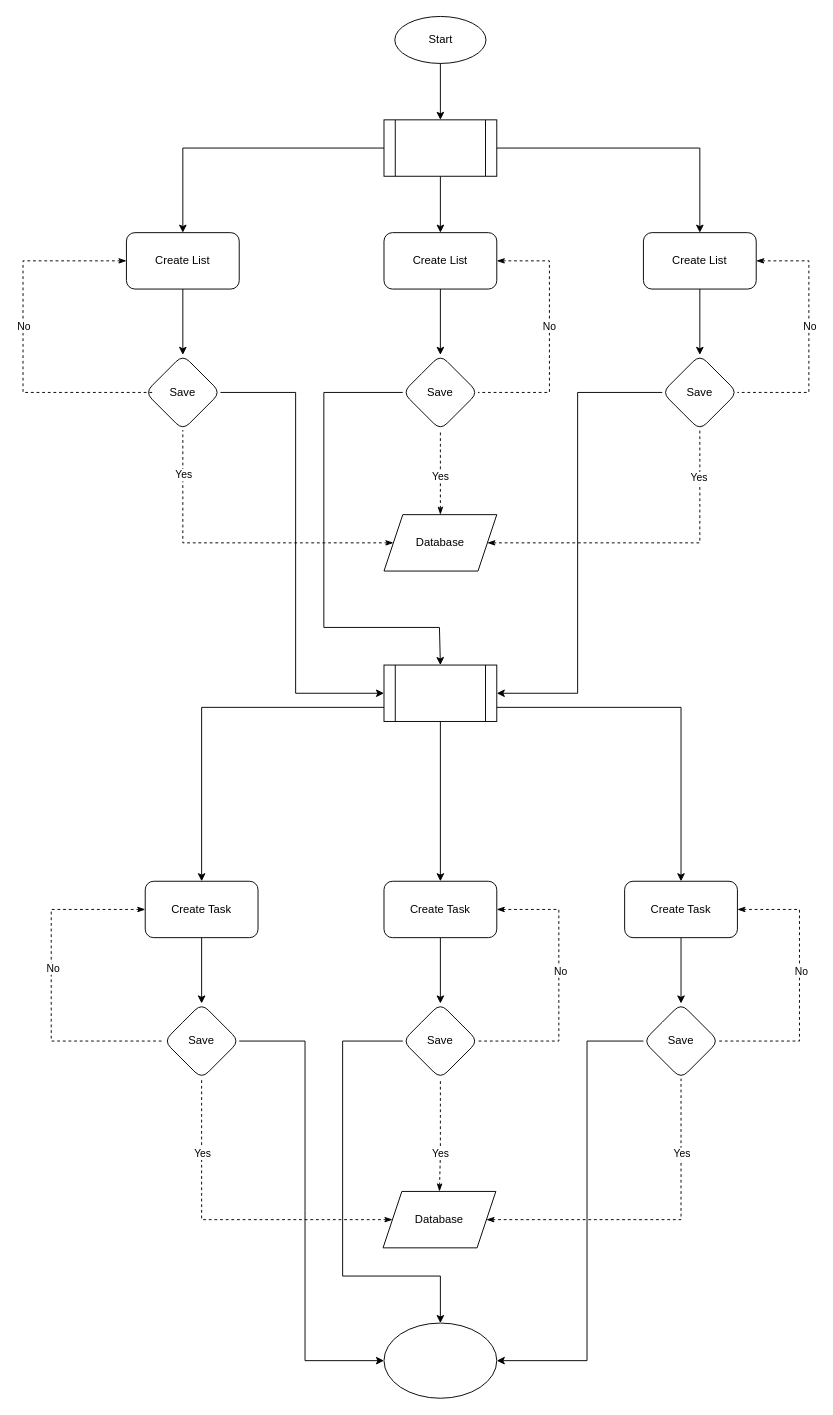
The diagram is 833 pixels wide and 1415 high, and some of its shapes have lost their labels. The centre of each missing label's shape, as x and y in pixels:
"CRUD List" belongs at point (440, 147).
"CRUD Task" belongs at point (440, 692).
"End" belongs at point (440, 1360).
